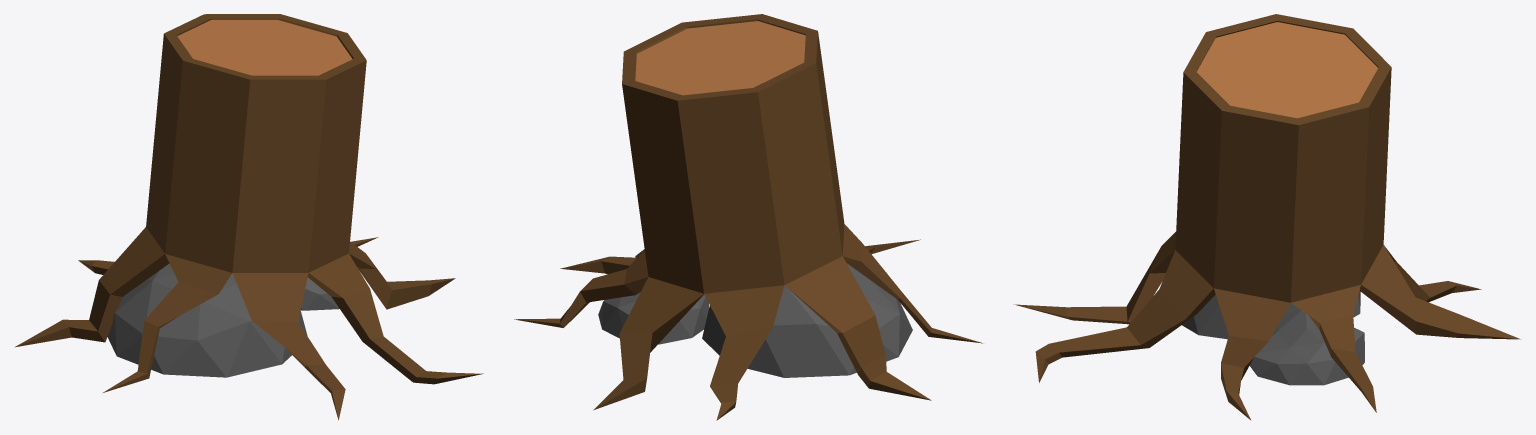
File: treeh1.glb
The picture shows the model from 3 angles, left to right: view 1: azimuth 30°, elevation 25°; view 2: azimuth 150°, elevation 25°; view 3: azimuth 270°, elevation 25°; orthographic projection. The views are drawn at different scales.
Parts seen in each view (by area): view 1: Icosphere.006; view 2: Icosphere.006; view 3: Icosphere.006.
Boxes of the visible parts, box(x1,y1,x2,y2) form: Icosphere.006: box(15, 14, 483, 420); Icosphere.006: box(514, 14, 982, 420); Icosphere.006: box(1013, 14, 1521, 420).
Bounding box in the file's own units: 2.86 × 1.85 × 3.07.
